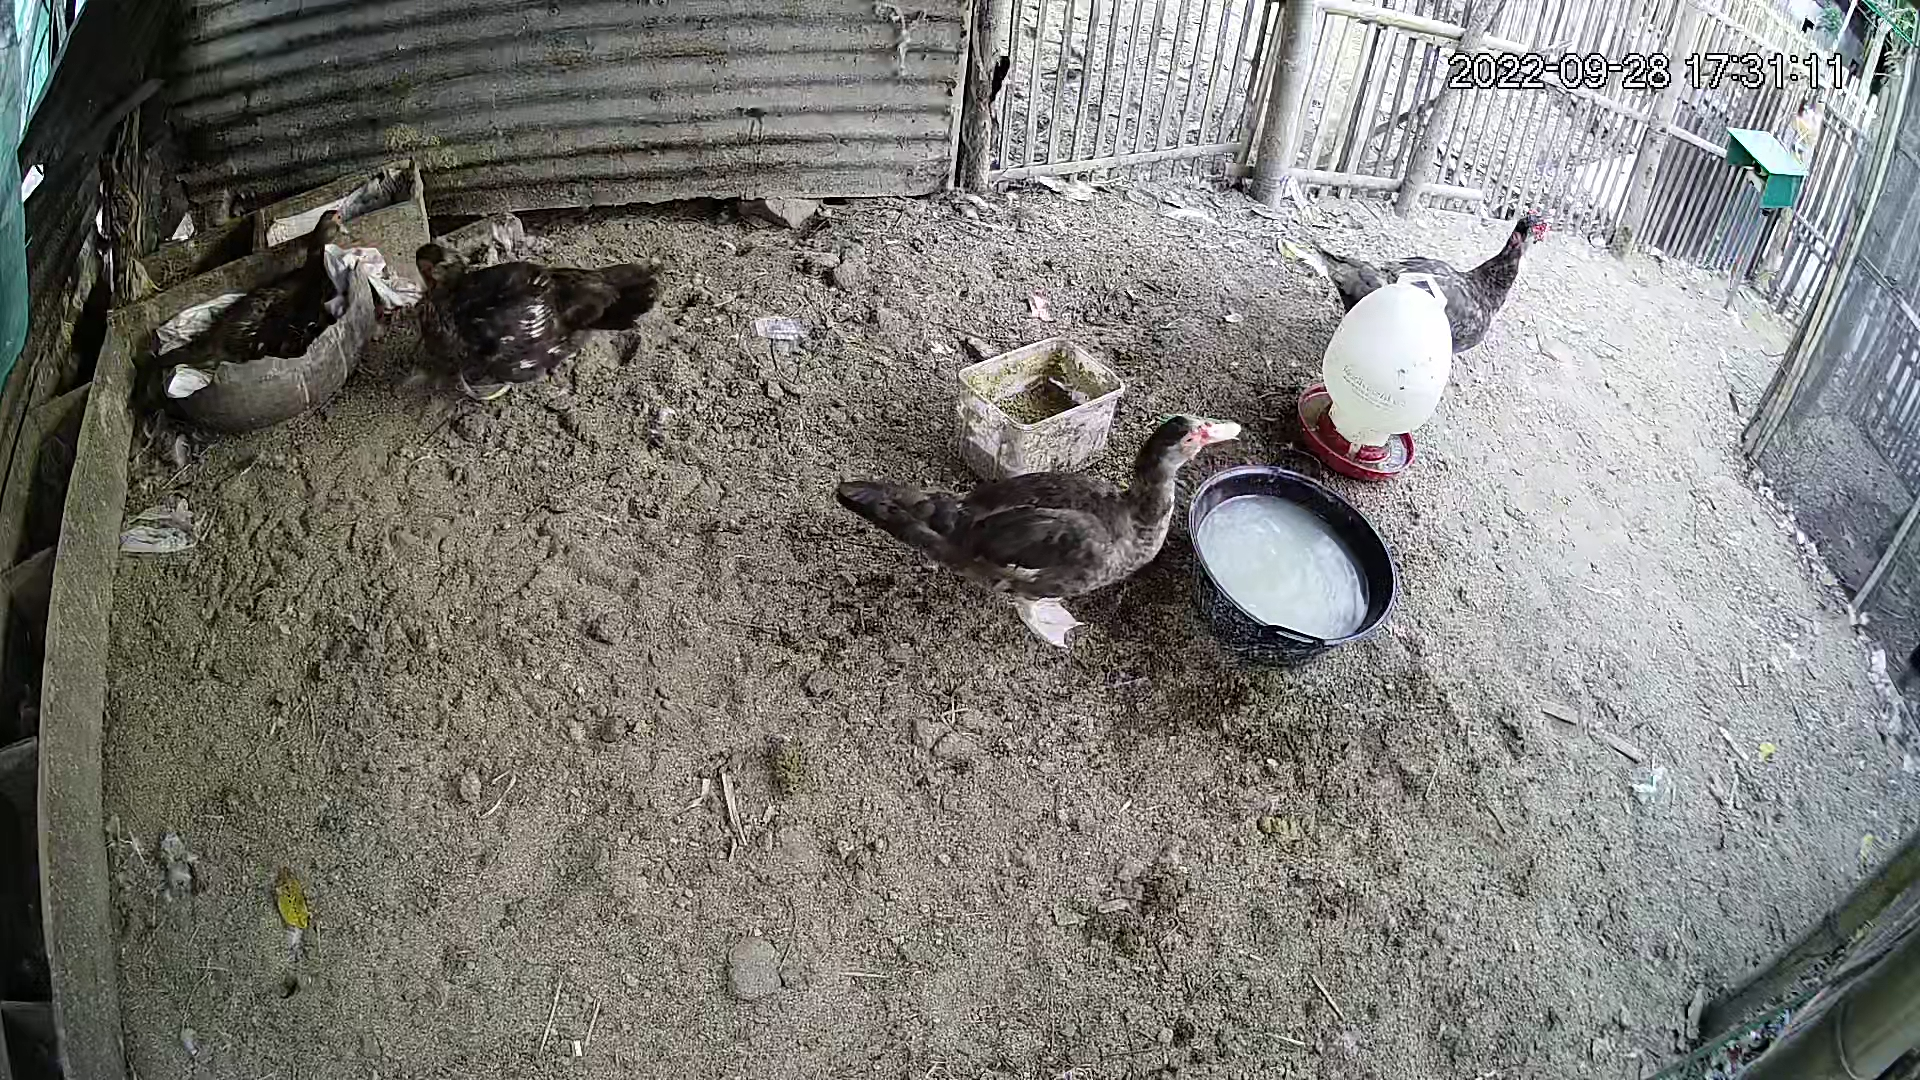Mengeram: (104, 179, 371, 418)
